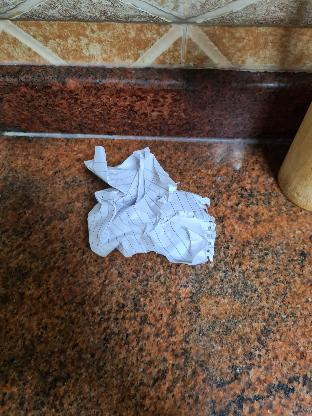Paper: (85, 142, 223, 262)
